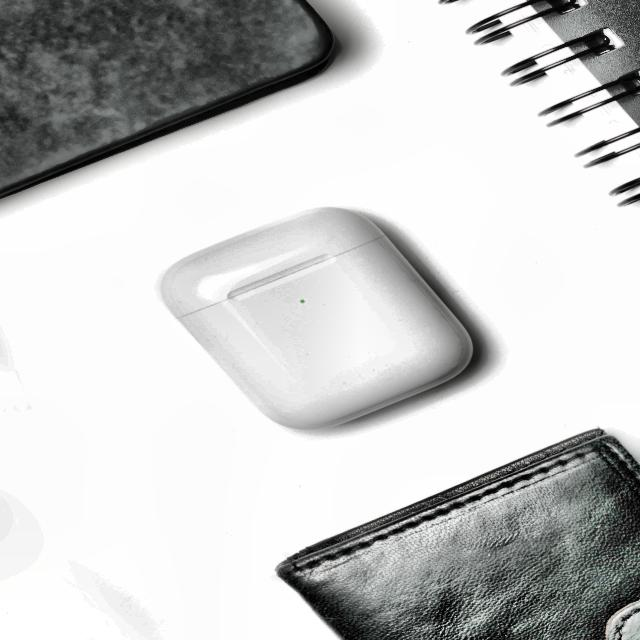Bluetooth headphones: (162, 208, 472, 428)
